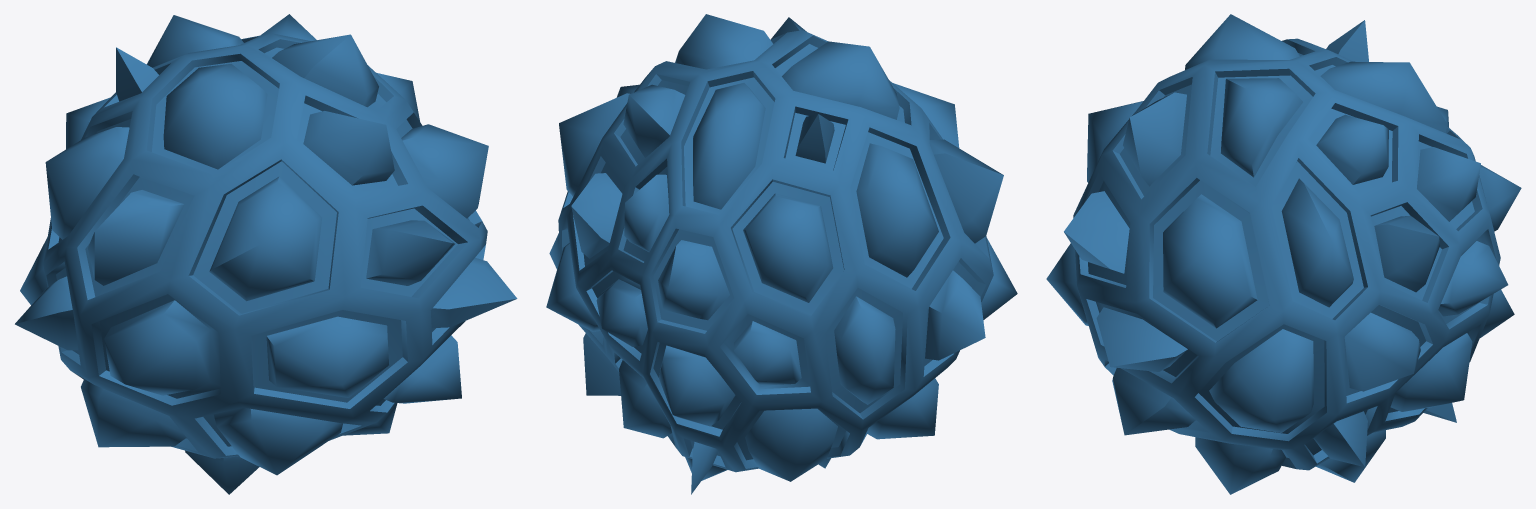
3 renders of one model, left to right at view 1: azimuth 30°, elevation 25°; view 2: azimuth 150°, elevation 25°; view 3: azimuth 270°, elevation 25°, orthographic. The views are drawn at different scales.
Parts seen in each view (by area): view 1: Organic_11; view 2: Organic_11; view 3: Organic_11.
Part boxes in pixels (bbox=[...]): Organic_11: bbox=[15, 14, 517, 494]; Organic_11: bbox=[546, 14, 1017, 494]; Organic_11: bbox=[1046, 14, 1521, 494].
Size of the model in its own units: 260 by 235 by 241.
Materials: 1 (1 with a texture image).
